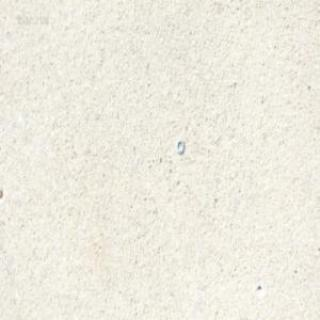Washertrack_idkeyframe: (176, 137, 183, 153)
